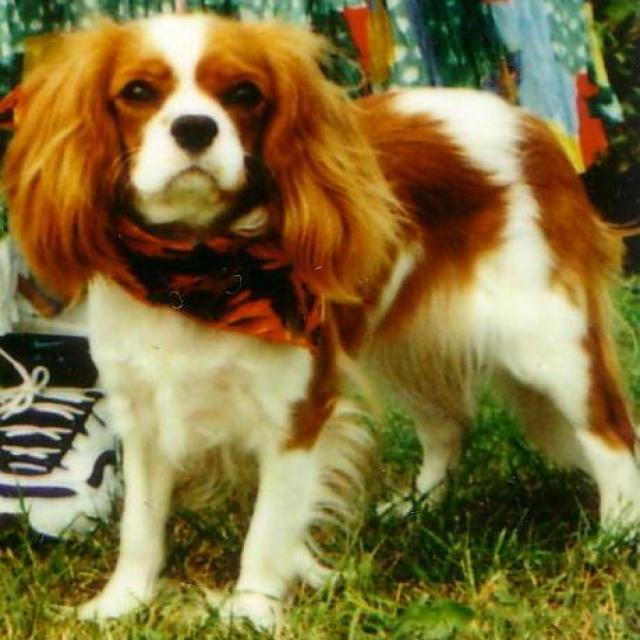blenheim_spaniel: (4, 9, 637, 636)
